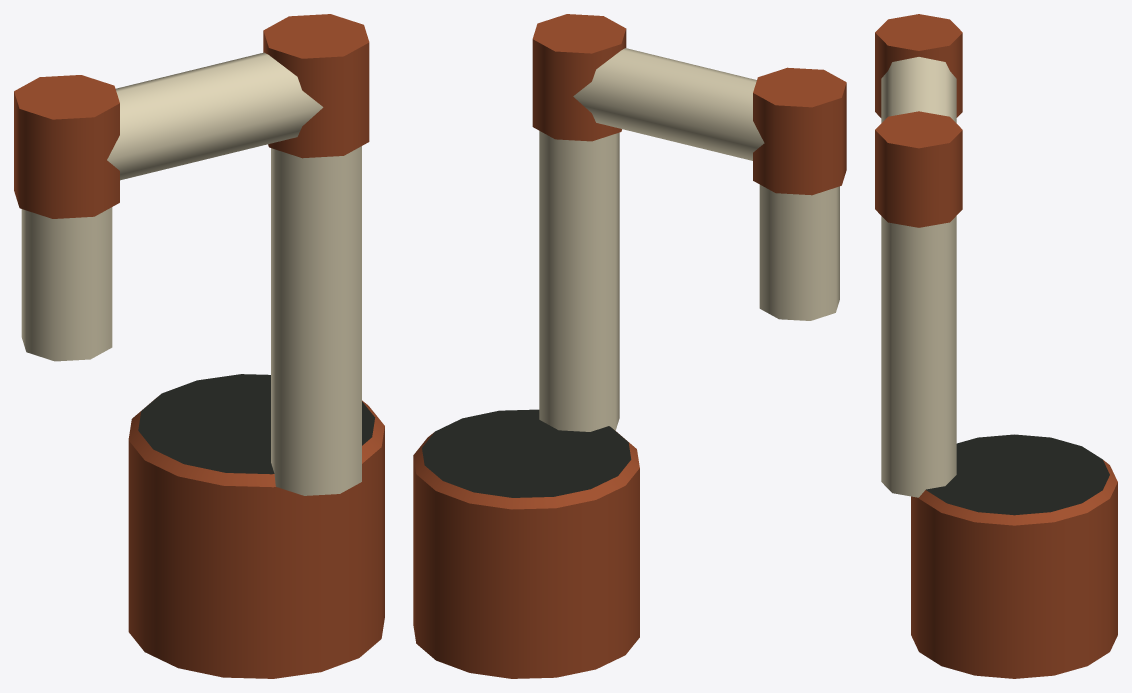
File: u500_fan.obj
3 views of the same model, side by side, from view 1: azimuth 30°, elevation 25°; view 2: azimuth 150°, elevation 25°; view 3: azimuth 270°, elevation 25° (orthographic). The views are drawn at different scales.
Visible parts, largest first — view 1: u500_fan; view 2: u500_fan; view 3: u500_fan.
Boxes of the visible parts, <box> form: u500_fan: <box>14,14,384,678</box>; u500_fan: <box>413,14,846,678</box>; u500_fan: <box>875,14,1117,678</box>.
Bounding box in the file's own units: 2.41 × 3.56 × 1.55.
